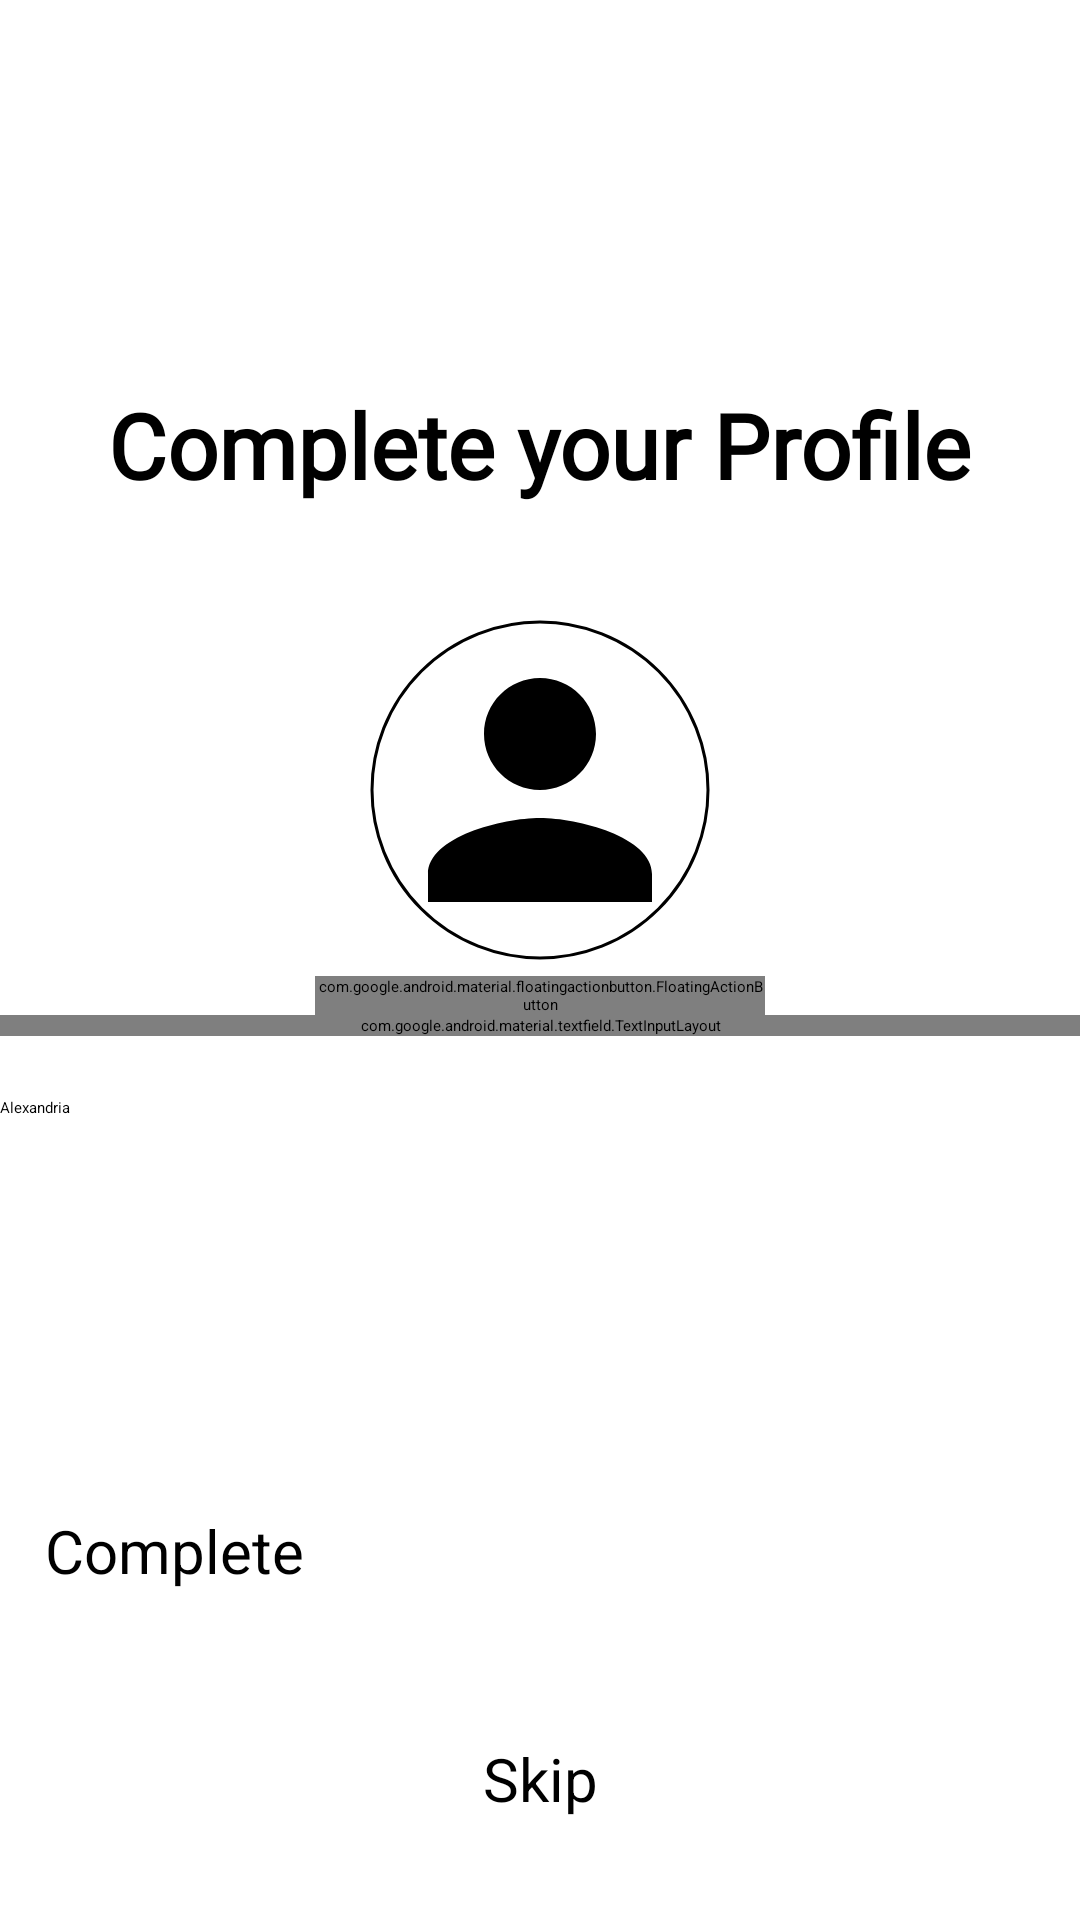

Icon click points for this 1080*1920 phone screenshot, format (x,y):
person: (540,790)
